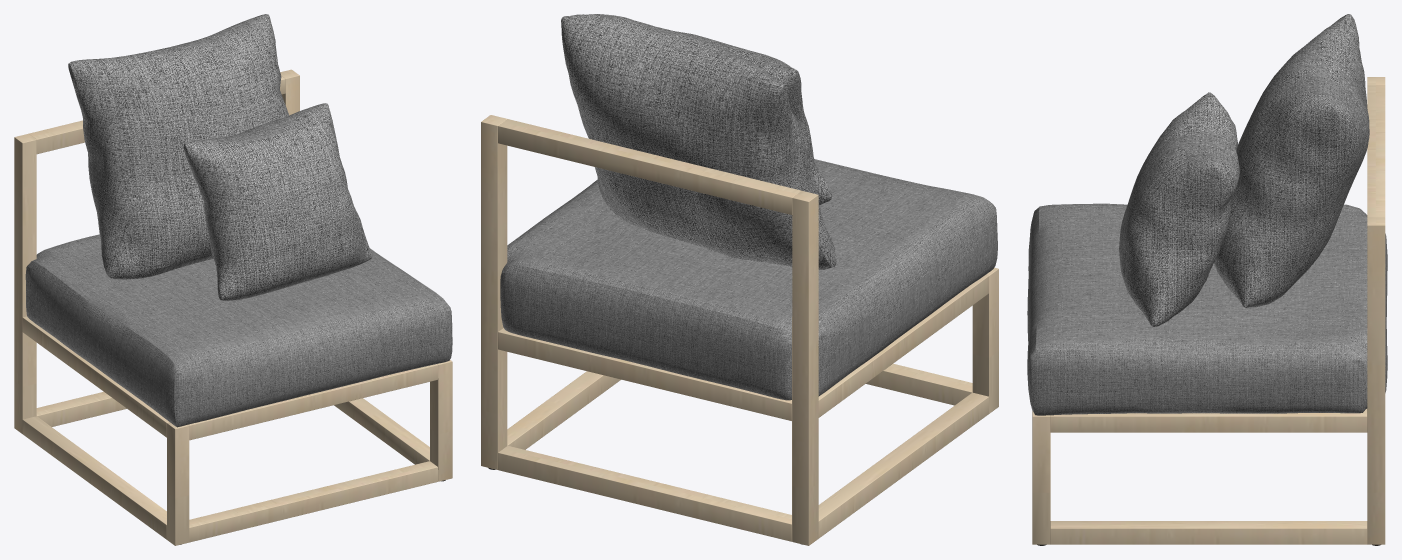
The picture shows the model from 3 angles, left to right: view 1: azimuth 30°, elevation 25°; view 2: azimuth 150°, elevation 25°; view 3: azimuth 270°, elevation 25°; orthographic projection. The views are drawn at different scales.
Parts seen in each view (by area): view 1: C-skp6C16; view 2: C-skp6C16; view 3: C-skp6C16.
Part boxes in pixels (x1,y1,x2,y2): C-skp6C16: (14,14,452,545); C-skp6C16: (481,14,998,545); C-skp6C16: (1027,14,1387,545).
Bounding box in the file's own units: 0.6448 × 0.8148 × 0.6421.
3 materials, 2 textured.
